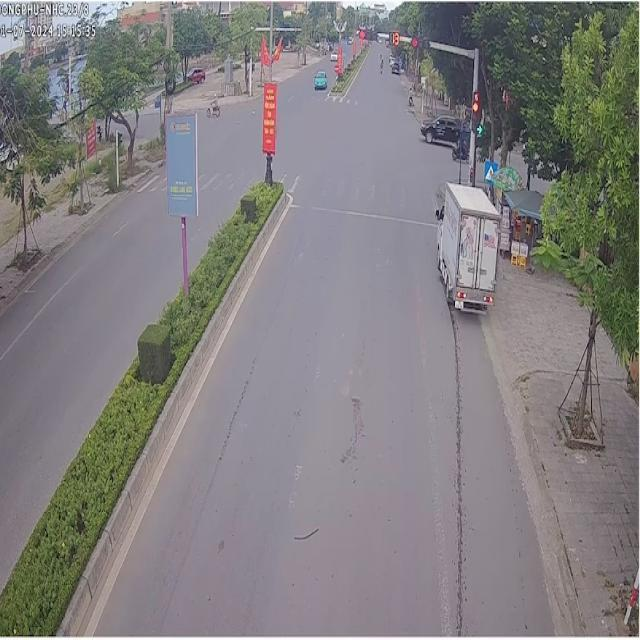car: (434, 182, 498, 309), (419, 114, 458, 141), (313, 68, 326, 88)
motobike: (204, 97, 218, 115)
red_light: (471, 88, 478, 134), (410, 35, 430, 48), (358, 28, 377, 41), (388, 28, 400, 45)
stop_line: (290, 203, 434, 225)
